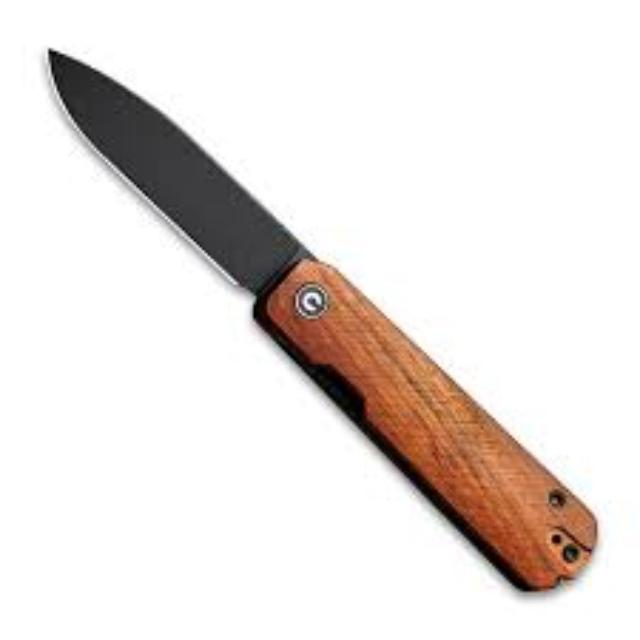Knife: (43, 46, 597, 592)
